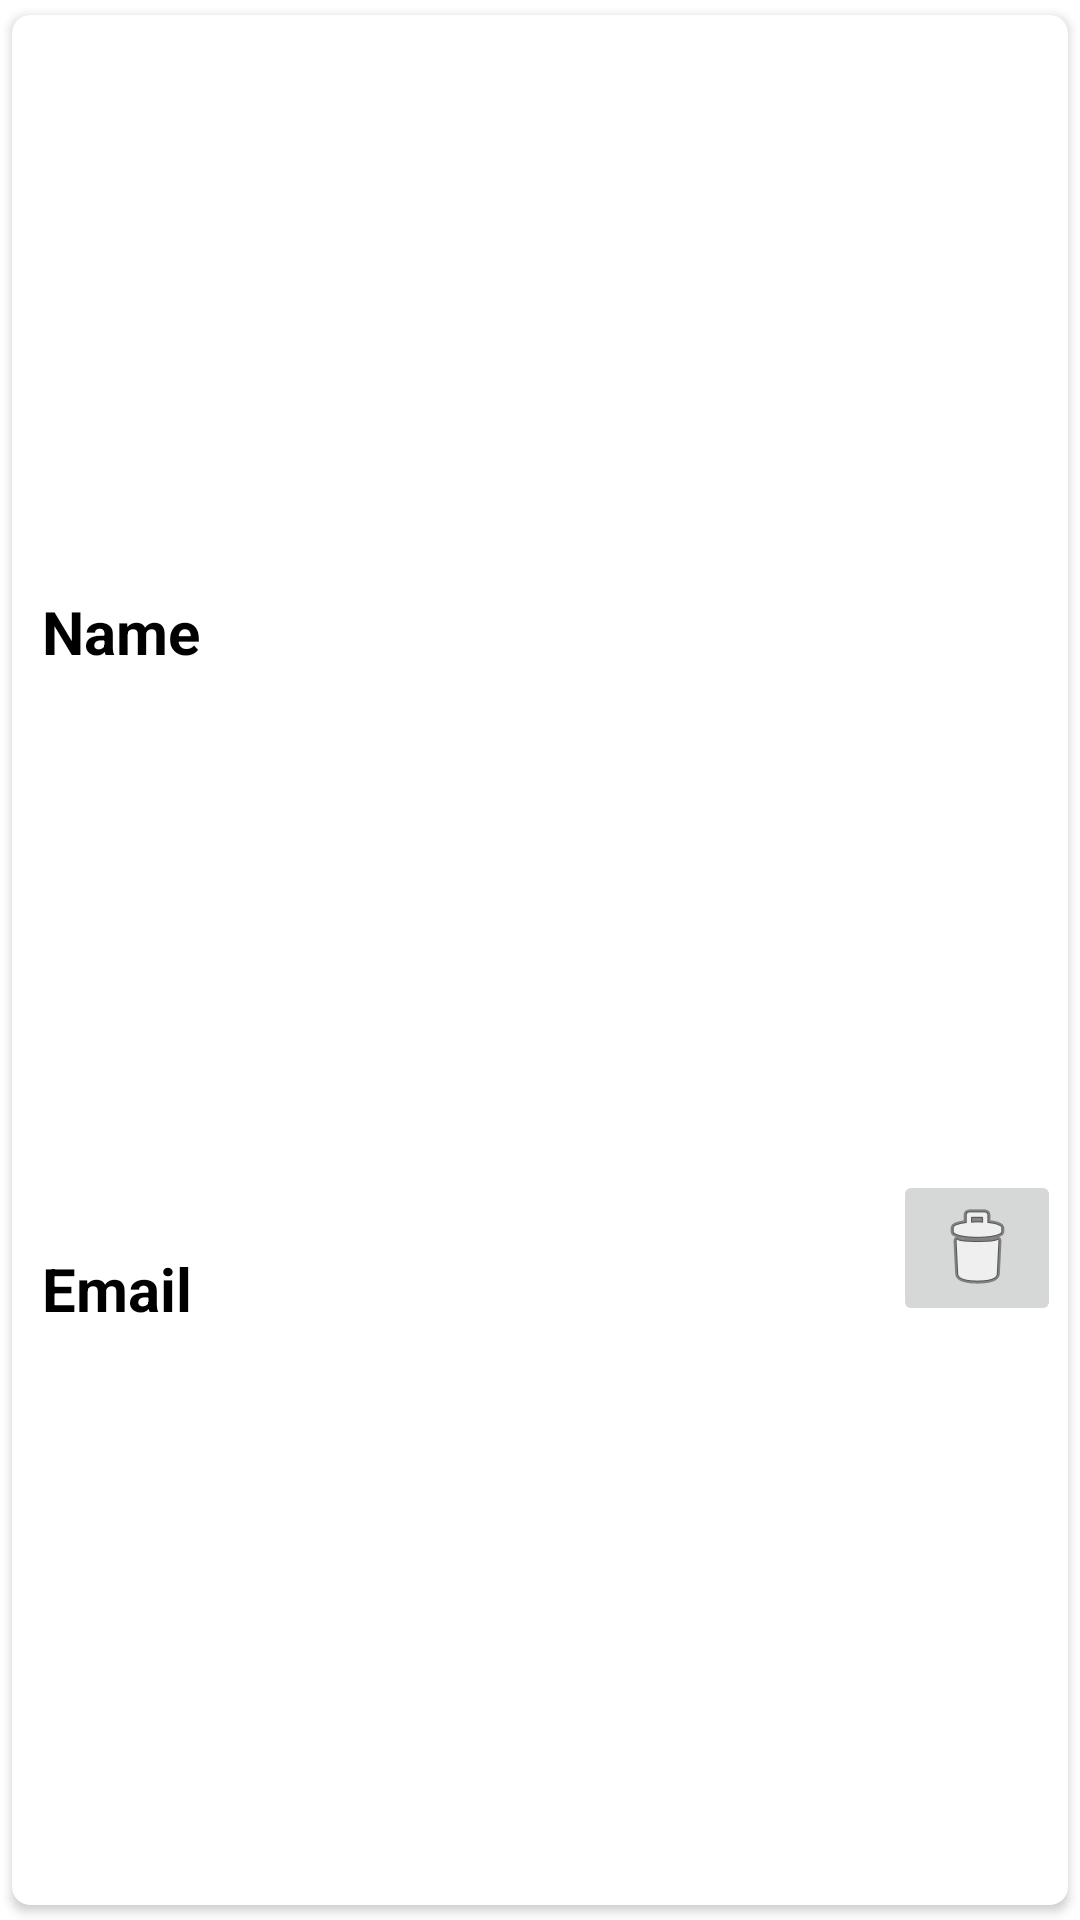

Screen size 1080 × 1920. Icon name, then its center in pixels as (x=x, y=y):
delete: (x=977, y=1248)
